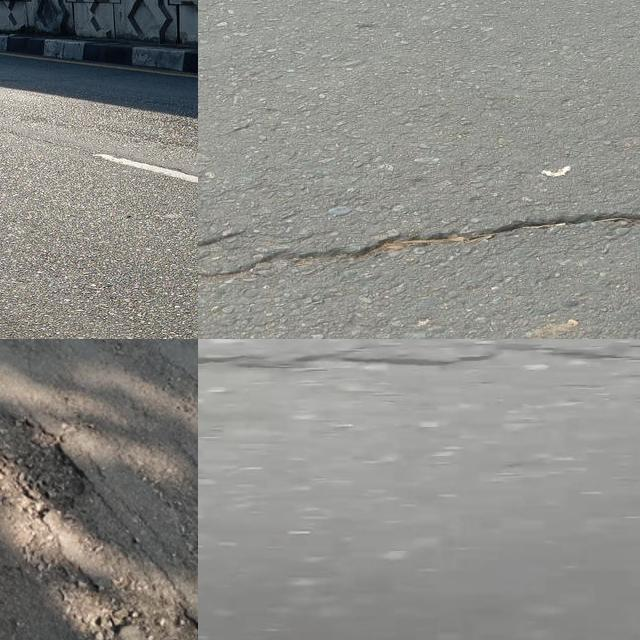Lubang: (0, 417, 85, 510)
Melintang: (198, 179, 640, 286), (198, 339, 640, 378)
